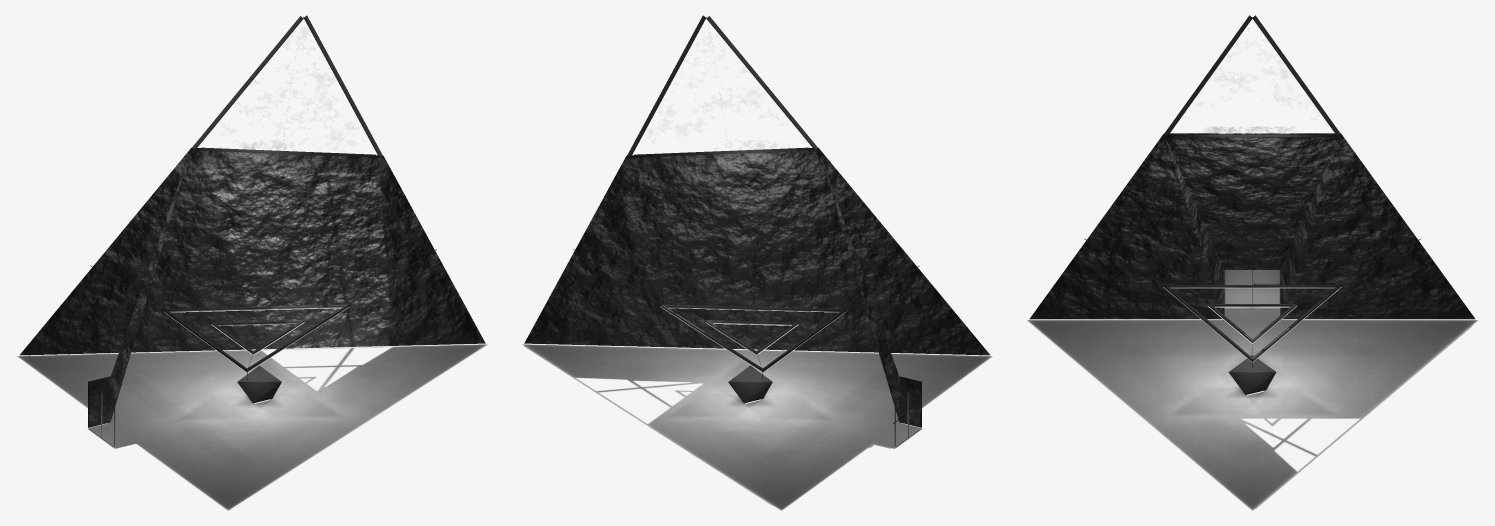
File: modern_vr_art_gallery_pyramid.glb
3 views of the same model, side by side, from view 1: azimuth 30°, elevation 25°; view 2: azimuth 150°, elevation 25°; view 3: azimuth 270°, elevation 25° (orthographic). The views are drawn at different scales.
Parts seen in each view (by area): view 1: Baked; view 2: Baked; view 3: Baked.
Boxes of the visible parts, x1,y1,x2,y2 form: Baked: (15,15,489,511); Baked: (520,15,994,511); Baked: (1024,15,1480,511).
Size of the model in its own units: 17.36 by 15.8 by 16.36.
1 material, 1 textured.
